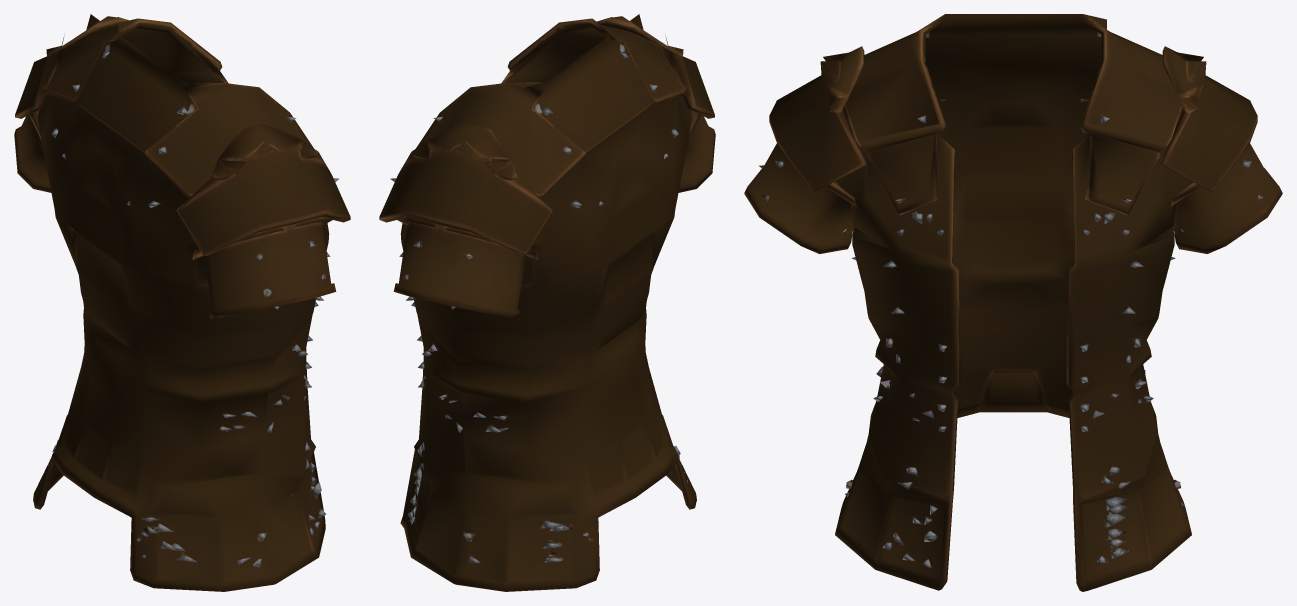
Rendered from emberforge_scale.glb.
3 views of the same model, side by side, from view 1: azimuth 30°, elevation 25°; view 2: azimuth 150°, elevation 25°; view 3: azimuth 270°, elevation 25° (orthographic). The views are drawn at different scales.
Parts seen in each view (by area): view 1: base_model_path; view 2: base_model_path; view 3: base_model_path.
Part boxes in pixels (left/top/right/bottom): base_model_path: left=14, top=14, right=350, bottom=591; base_model_path: left=379, top=14, right=715, bottom=591; base_model_path: left=744, top=14, right=1282, bottom=591.
Bounding box in the file's own units: 0.477 × 0.999 × 0.9638.
1 material, 1 textured.
